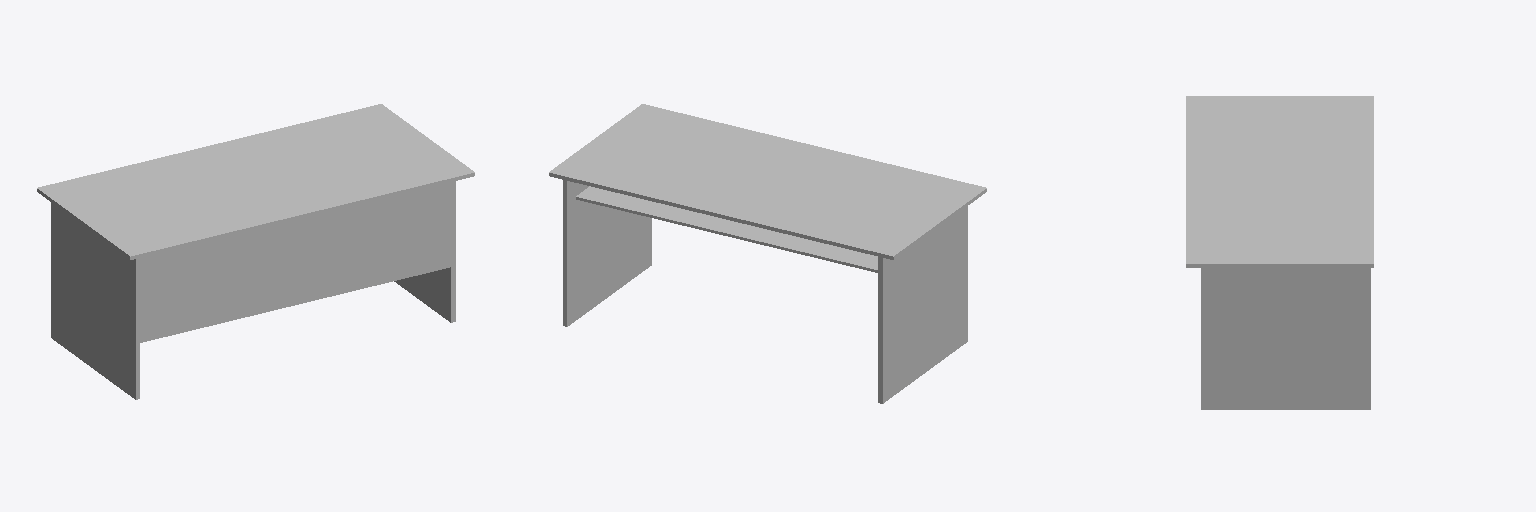
The model's file is table.obj.
The picture shows the model from 3 angles: view 1: azimuth 30°, elevation 25°; view 2: azimuth 150°, elevation 25°; view 3: azimuth 270°, elevation 25°; orthographic projection.
Visible parts, largest first — view 1: Cube.061; view 2: Cube.061; view 3: Cube.061.
Part boxes in pixels (left/top/right/bottom): Cube.061: left=37, top=104, right=474, bottom=399; Cube.061: left=549, top=104, right=986, bottom=403; Cube.061: left=1186, top=96, right=1373, bottom=409.
Size of the model in its own units: 2.14 by 0.8994 by 1.01.